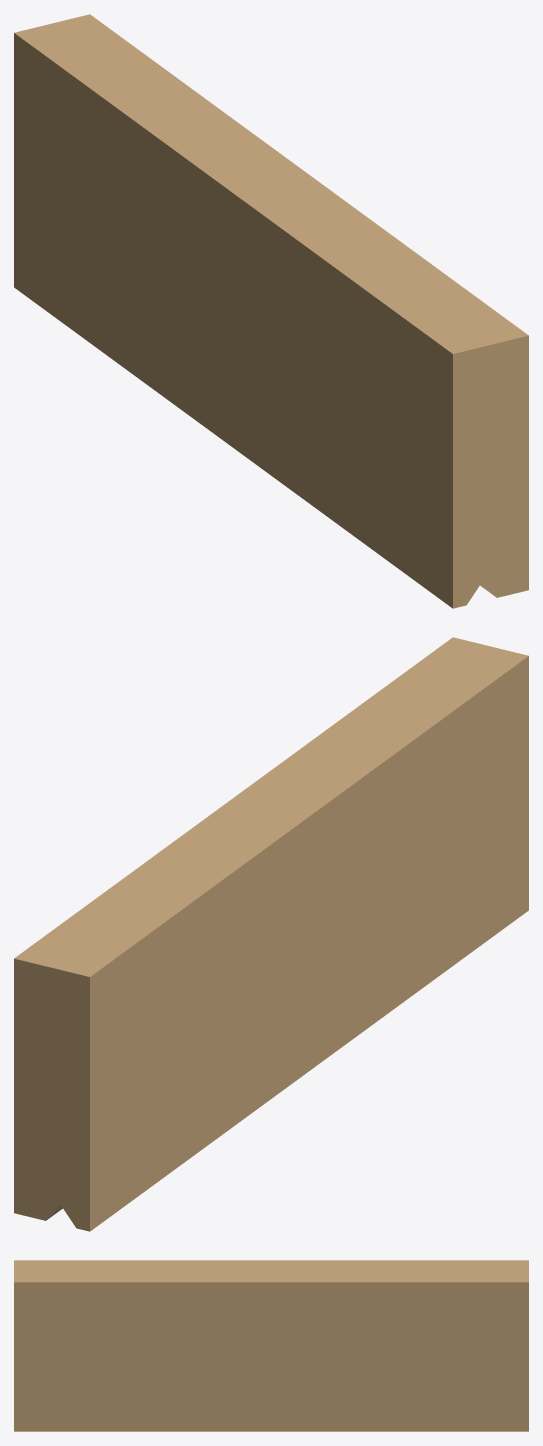
The model's file is prop-molding-plane-body-mp1.fbx.
3 views of the same model, one above another, from view 1: azimuth 30°, elevation 25°; view 2: azimuth 150°, elevation 25°; view 3: azimuth 270°, elevation 25° (orthographic). The views are drawn at different scales.
Parts seen in each view (by area): view 1: prop-molding-plane-body-mp1; view 2: prop-molding-plane-body-mp1; view 3: prop-molding-plane-body-mp1.
Boxes of the visible parts, x1,y1,x2,y2 form: prop-molding-plane-body-mp1: (14, 14, 528, 608); prop-molding-plane-body-mp1: (14, 637, 528, 1231); prop-molding-plane-body-mp1: (14, 1260, 528, 1431).
Bounding box in the file's own units: 2.5 × 8 × 25.
